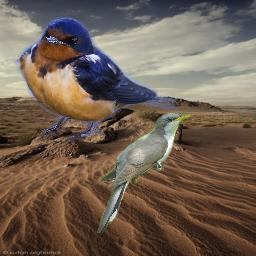Cuckoo: (97, 113, 190, 233)
Swallow: (14, 16, 178, 142)
